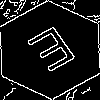E: (25, 25, 85, 81)
